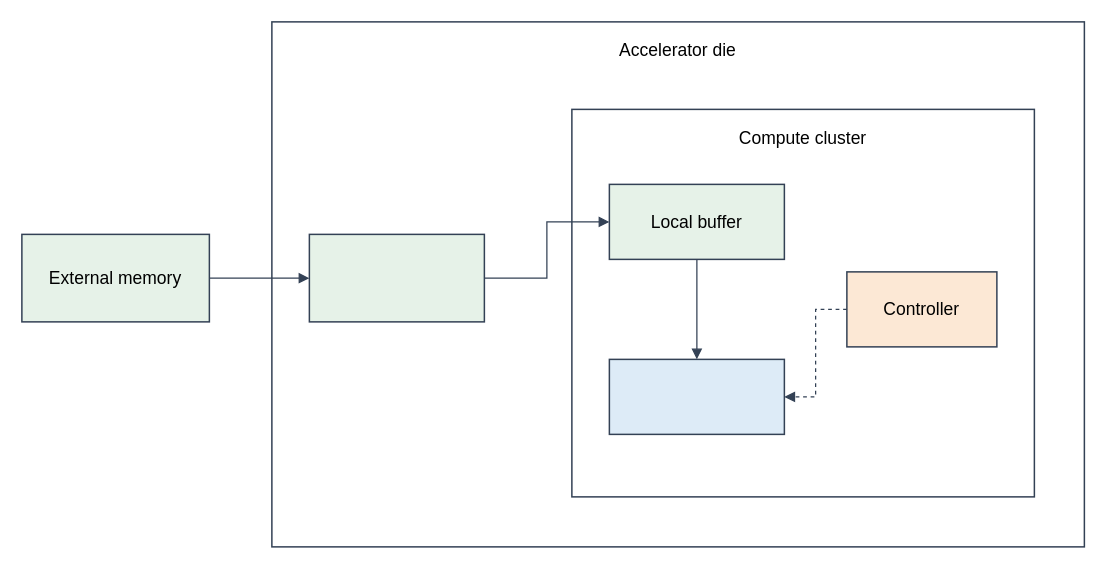
The diagram is 1108 pixels wide and 570 high, and some of its shapes have lost their labels. The centre of each missing label's shape, as x and y in pixels:
PE array: (696,396)
Shared buffer: (396,277)
